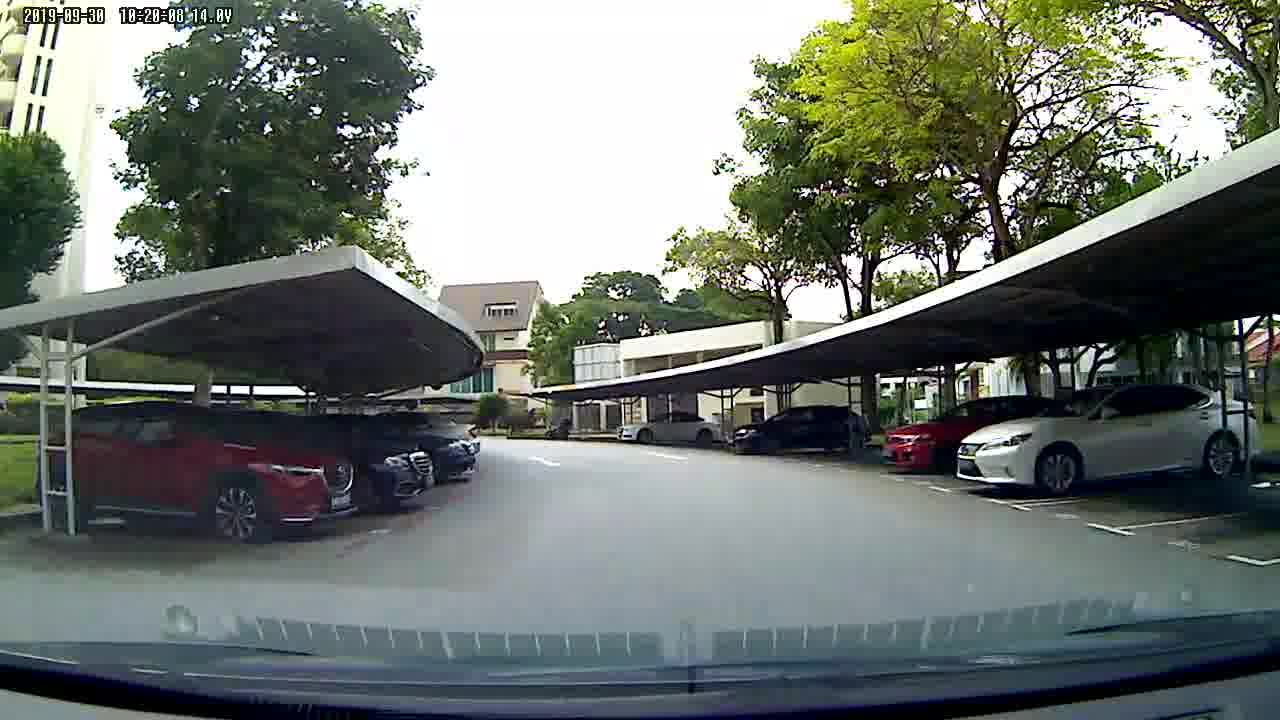car: (33, 399, 360, 553), (959, 369, 1265, 495), (731, 401, 870, 457), (612, 408, 726, 449)
